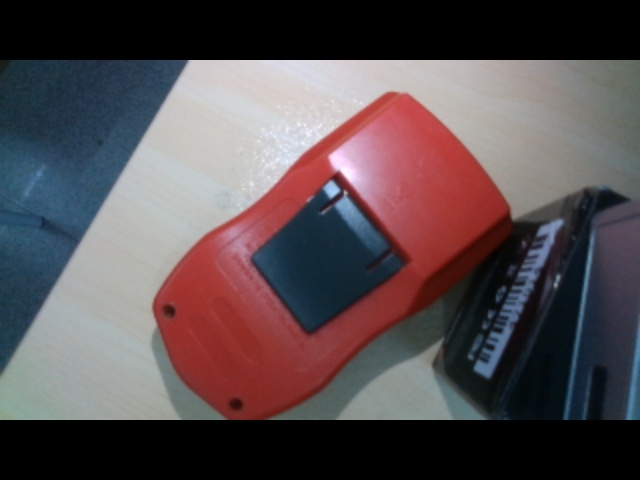Multimeter: (149, 89, 513, 418)
